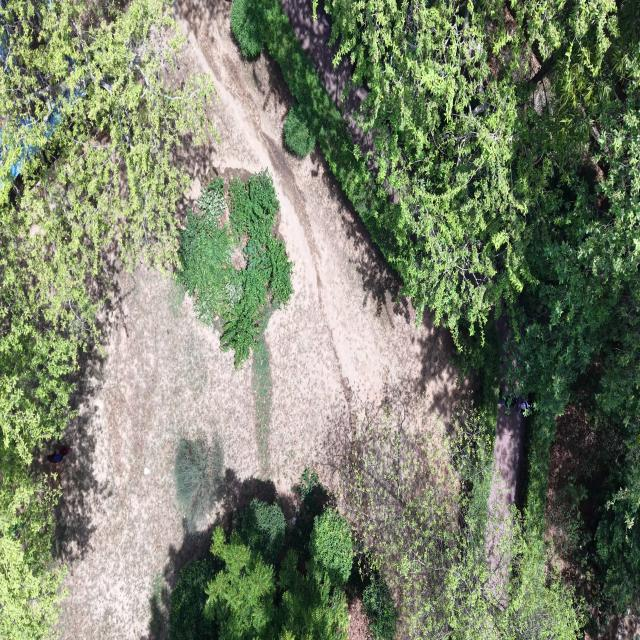DRY_AREA: (56, 0, 462, 639), (59, 3, 454, 637), (178, 2, 456, 423), (55, 270, 256, 639), (281, 0, 378, 174), (281, 0, 374, 156), (281, 0, 374, 155), (281, 0, 374, 153), (281, 0, 374, 152), (281, 0, 374, 151), (545, 404, 611, 593), (545, 404, 611, 592), (281, 0, 353, 105), (486, 405, 525, 598), (486, 406, 524, 594), (490, 405, 525, 524), (493, 406, 525, 507), (494, 406, 525, 506), (598, 614, 639, 639), (349, 599, 372, 639)
VEGETATION_TREE: (185, 0, 639, 639), (253, 0, 639, 613), (327, 0, 639, 610), (0, 0, 213, 639), (326, 0, 639, 335), (0, 0, 212, 462), (207, 400, 582, 639), (326, 0, 530, 337), (518, 72, 639, 613), (338, 396, 581, 639), (242, 0, 409, 277), (180, 470, 353, 639), (179, 170, 292, 367), (546, 406, 639, 635), (206, 500, 352, 639), (0, 450, 65, 639), (229, 170, 292, 311), (179, 179, 240, 323), (205, 527, 275, 639), (594, 447, 639, 610), (277, 550, 348, 639), (175, 437, 223, 533), (291, 468, 335, 562), (169, 558, 218, 639), (310, 509, 353, 584), (240, 499, 285, 563), (363, 575, 398, 639), (231, 0, 263, 58), (284, 104, 316, 158), (293, 468, 321, 505)
